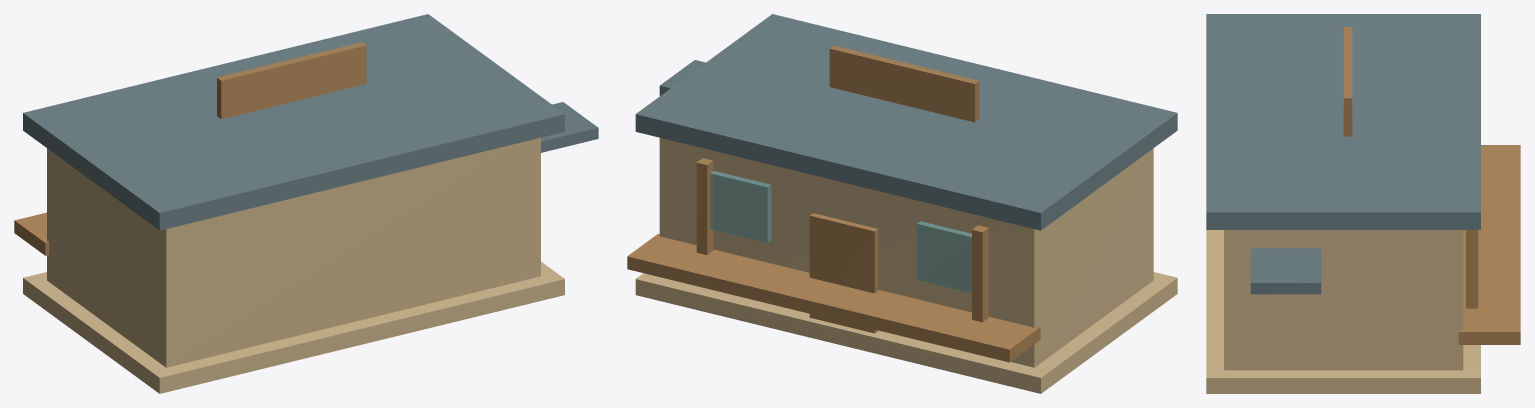
Rendered from general-store.source.glb.
3 renders of one model, left to right at view 1: azimuth 30°, elevation 25°; view 2: azimuth 150°, elevation 25°; view 3: azimuth 270°, elevation 25°, orthographic.
Parts seen in each view (by area): view 1: general-store-store-shell-mesh, general-store-store-roof-mesh, general-store-foundation-mesh, general-store-blank-signboard-mesh, general-store-side-loading-awning-mesh, general-store-porch-mesh; view 2: general-store-store-roof-mesh, general-store-store-shell-mesh, general-store-porch-mesh, general-store-foundation-mesh, general-store-blank-signboard-mesh, general-store-teal-double-door-mesh, general-store-display-window-1.35-mesh, general-store-display-window--1.35-mesh, general-store-porch-post-1.8-mesh, general-store-porch-post--1.8-mesh, general-store-side-loading-awning-mesh; view 3: general-store-store-roof-mesh, general-store-store-shell-mesh, general-store-foundation-mesh, general-store-porch-mesh, general-store-side-loading-awning-mesh, general-store-blank-signboard-mesh, general-store-porch-post-1.8-mesh.
Boxes of the visible parts, bbox=[...] form: general-store-store-shell-mesh: bbox=[47, 137, 540, 367]; general-store-store-roof-mesh: bbox=[23, 14, 564, 230]; general-store-foundation-mesh: bbox=[23, 261, 564, 393]; general-store-blank-signboard-mesh: bbox=[217, 42, 366, 118]; general-store-side-loading-awning-mesh: bbox=[541, 102, 598, 152]; general-store-porch-mesh: bbox=[14, 212, 49, 255]; general-store-store-roof-mesh: bbox=[635, 14, 1177, 230]; general-store-store-shell-mesh: bbox=[659, 138, 1153, 367]; general-store-porch-mesh: bbox=[627, 234, 1040, 362]; general-store-foundation-mesh: bbox=[635, 272, 1177, 393]; general-store-blank-signboard-mesh: bbox=[829, 45, 979, 122]; general-store-teal-double-door-mesh: bbox=[809, 213, 878, 333]; general-store-display-window-1.35-mesh: bbox=[710, 171, 771, 243]; general-store-display-window--1.35-mesh: bbox=[916, 221, 971, 292]; general-store-porch-post-1.8-mesh: bbox=[696, 158, 713, 254]; general-store-porch-post--1.8-mesh: bbox=[972, 225, 988, 322]; general-store-side-loading-awning-mesh: bbox=[659, 60, 705, 95]; general-store-store-roof-mesh: bbox=[1206, 14, 1480, 229]; general-store-store-shell-mesh: bbox=[1224, 230, 1463, 370]; general-store-foundation-mesh: bbox=[1206, 230, 1480, 393]; general-store-porch-mesh: bbox=[1458, 145, 1520, 344]; general-store-side-loading-awning-mesh: bbox=[1250, 248, 1321, 294]; general-store-blank-signboard-mesh: bbox=[1343, 27, 1352, 136]; general-store-porch-post-1.8-mesh: bbox=[1466, 230, 1478, 308].
Size of the model in its own units: 6.03 by 2.89 by 3.55.
